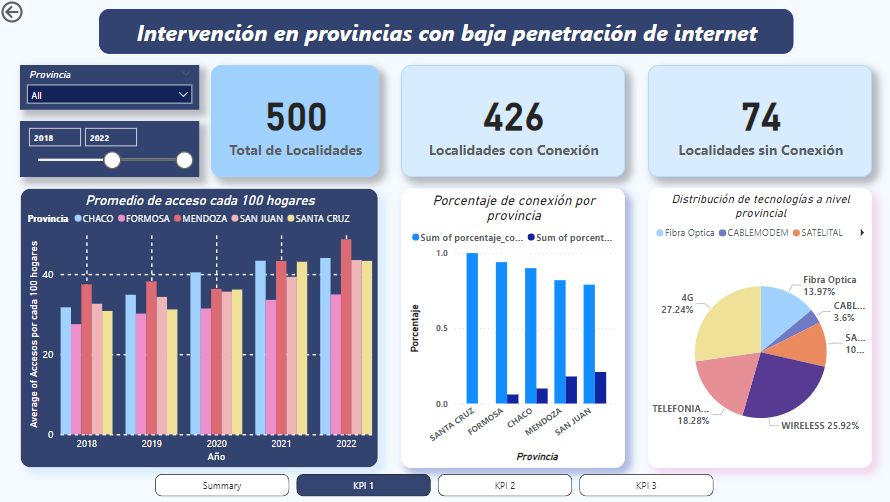

Layout of this report page (visuals, bound fields, positions):
{"tool":"powerbi","page":{"name":"KPI 1","canvas":[1280,720],"ordinal":1},"visuals":[{"type":"clusteredColumnChart","title":"Porcentaje de conexión por provincia","fields":{"Category":["Provincias.Provincia"],"Y":["Sum(data.porcentaje_conexion)","Sum(data.porcentaje_sin_conexion)"]},"box":[576,272,320,400],"z":0},{"type":"card","title":"Localidades que cuentan con conectividad a internet","fields":{"Values":["CountNonNull(conectividad_por_localidad.CONECTIVIDAD)"]},"box":[576,96,320,160],"z":1000},{"type":"card","title":"Total de localidades en Argentina","fields":{"Values":["CountNonNull(conectividad_por_localidad.CONECTIVIDAD)"]},"box":[304,96,240,160],"z":2000},{"type":"actionButton","box":[0,0,100,40],"z":3000},{"type":"card","title":"Localidades que no cuentan con conectividad a internet","fields":{"Values":["CountNonNull(conectividad_por_localidad.CONECTIVIDAD)"]},"box":[928,96,320,160],"z":4000},{"type":"slicer","fields":{"Values":["Provincias.Provincia"]},"box":[32,96,256,64],"z":5000},{"type":"slicer","fields":{"Values":["año.Año"]},"box":[32,176,256,80],"z":6000},{"type":"clusteredColumnChart","title":"Promedio de acceso cada 100 hogares","fields":{"Category":["año.Año"],"Y":["Avg(Penetración_de _Internet fijo _(accesos _cada_100 hogares).Accesos por cada 100 hogares)"],"Series":["Provincias.Provincia"]},"box":[32,272,512,400],"z":7000},{"type":"pieChart","title":"Distribución de tecnologías a nivel provincial","fields":{"Y":["Avg(conectividad_por_localidad.FIBRAOPTICA)","Avg(conectividad_por_localidad.CABLEMODEM)","Avg(conectividad_por_localidad.SATELITAL)","Avg(conectividad_por_localidad.WIRELESS)","Avg(conectividad_por_localidad.TELEFONIAFIJA)","Avg(conectividad_por_localidad.4G)"]},"box":[928,272,320,400],"z":8000},{"type":"textbox","box":[144,16,992,64],"z":9000}]}

Visuals, with their boxes in screenshot pixels (x1, y1, x2, y2), scaled from the page's 1280x720 canvas onto the 890x502 screenshot:
"Porcentaje de conexión por provincia" clusteredColumnChart: pyautogui.locateOnScreen(400, 190, 623, 469)
"Localidades que cuentan con conectividad a internet" card: pyautogui.locateOnScreen(400, 67, 623, 178)
"Total de localidades en Argentina" card: pyautogui.locateOnScreen(211, 67, 378, 178)
actionButton: pyautogui.locateOnScreen(0, 0, 70, 28)
"Localidades que no cuentan con conectividad a internet" card: pyautogui.locateOnScreen(645, 67, 868, 178)
slicer - Provincias.Provincia: pyautogui.locateOnScreen(22, 67, 200, 112)
slicer - año.Año: pyautogui.locateOnScreen(22, 123, 200, 178)
"Promedio de acceso cada 100 hogares" clusteredColumnChart: pyautogui.locateOnScreen(22, 190, 378, 469)
"Distribución de tecnologías a nivel provincial" pieChart: pyautogui.locateOnScreen(645, 190, 868, 469)
textbox: pyautogui.locateOnScreen(100, 11, 790, 56)
